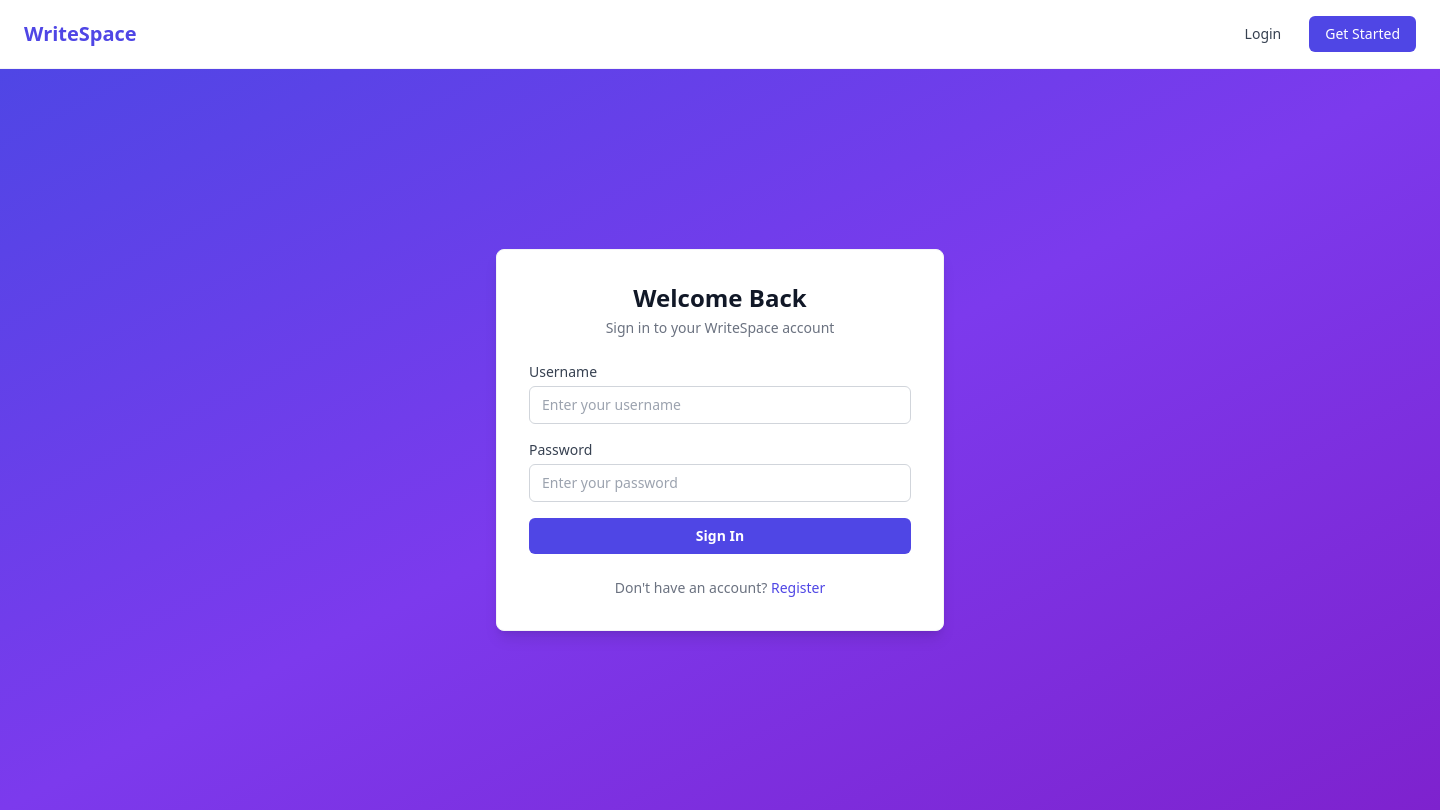
Test: LoginPage › validation errors › shows error when password is empty
Type "someuser" into the field labelled "Username". click: (720, 404)
box: x1=529 y1=386 x2=911 y2=424
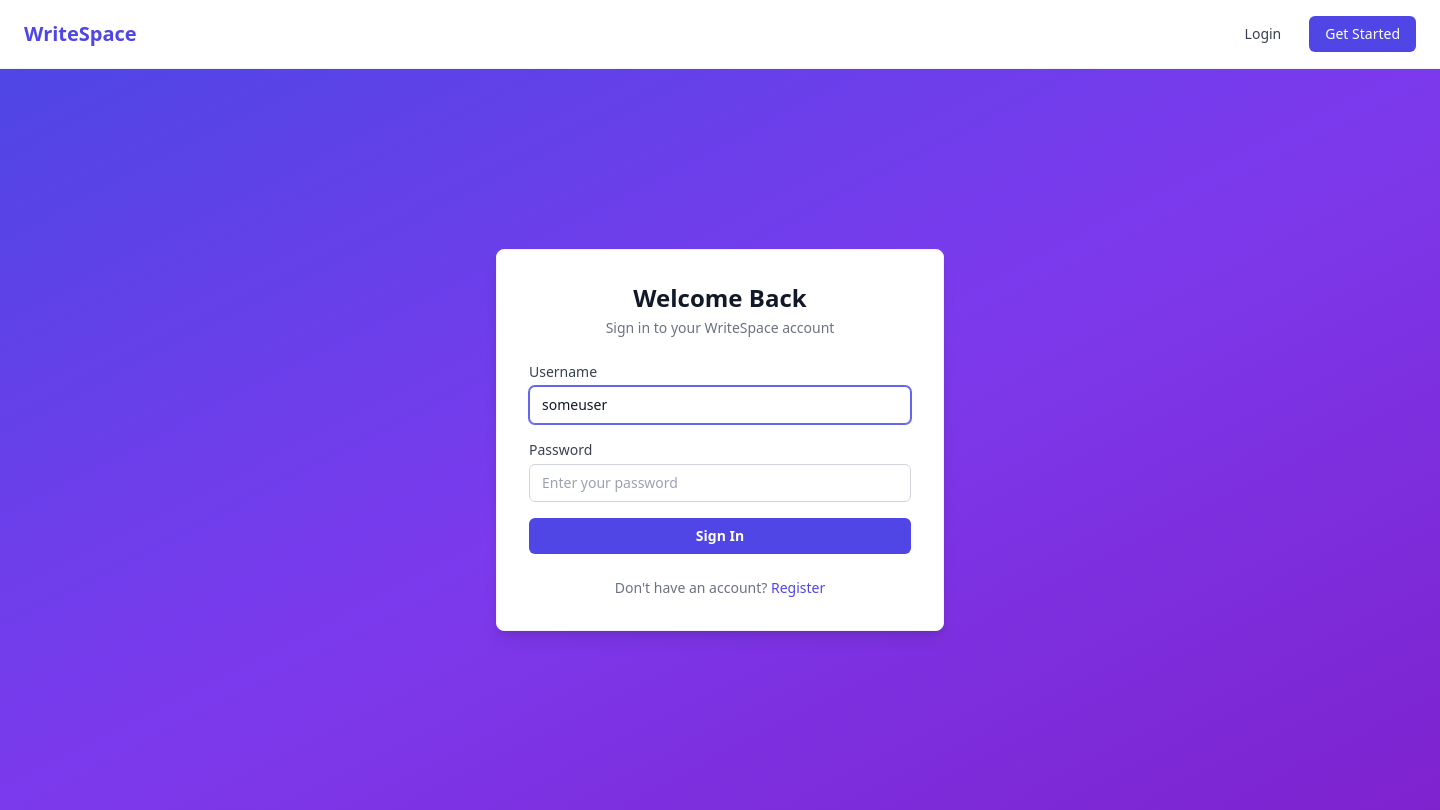
Click the button "Sign In". click: (720, 536)
box: x1=529 y1=518 x2=911 y2=554
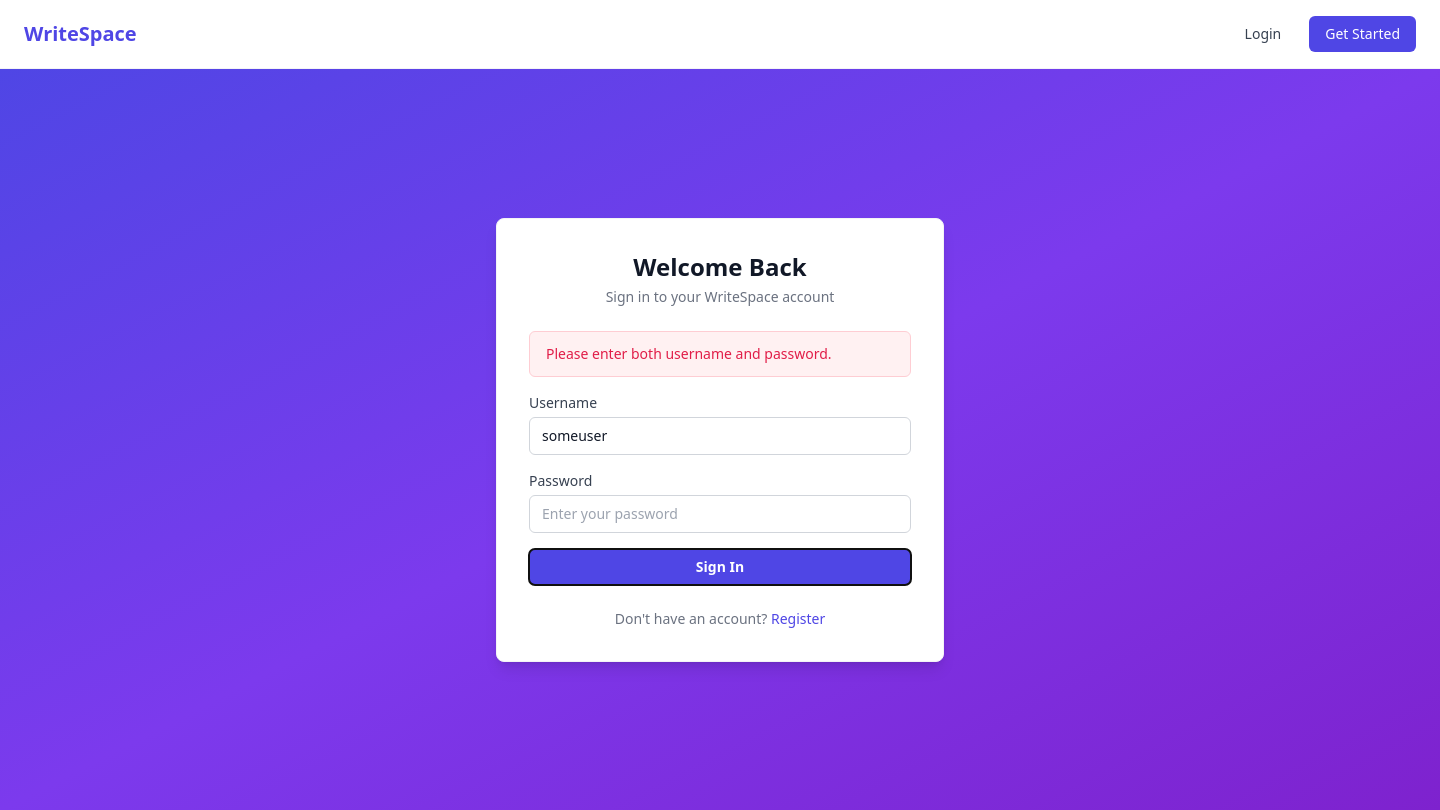
Now the text "Please enter both username and password." is shown, box x1=546 y1=344 x2=832 y2=362
